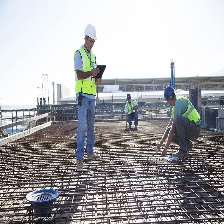helmet: (85, 27, 97, 40), (161, 88, 176, 97)
person: (73, 20, 103, 169), (160, 86, 203, 169), (124, 90, 141, 134)
vest: (77, 47, 96, 94), (177, 97, 200, 124)
